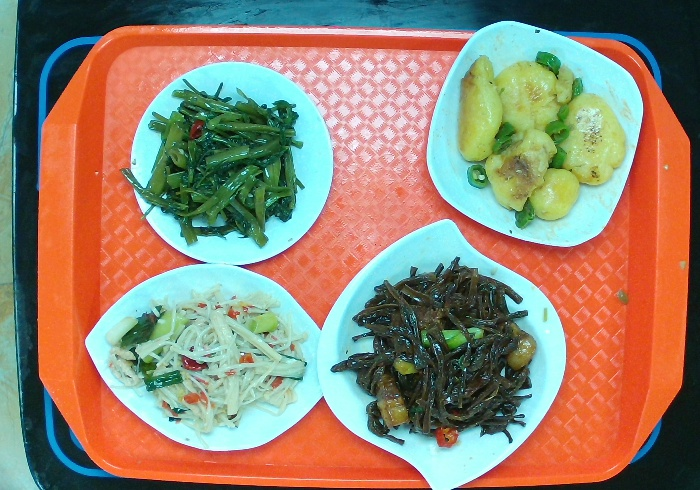RJxy-Da_Du_Pan: (85, 260, 323, 462)
RJxy-Shuang_Jiao_Pan: (319, 217, 568, 490)
RJxy-Si_Fang_Wan: (420, 11, 652, 253)
RJxy-Xiao_Yuan_Die: (132, 56, 338, 269)
